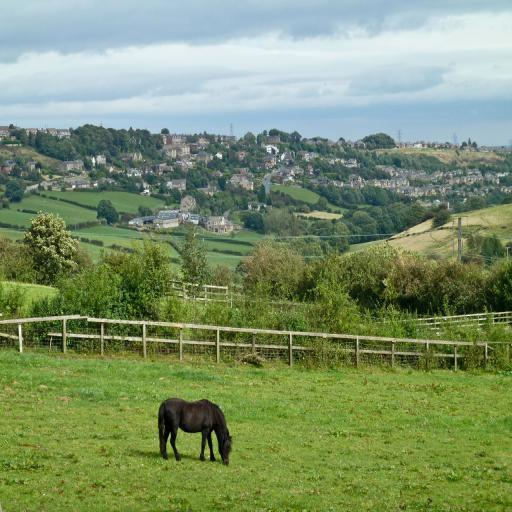horse: (158, 398, 234, 468)
